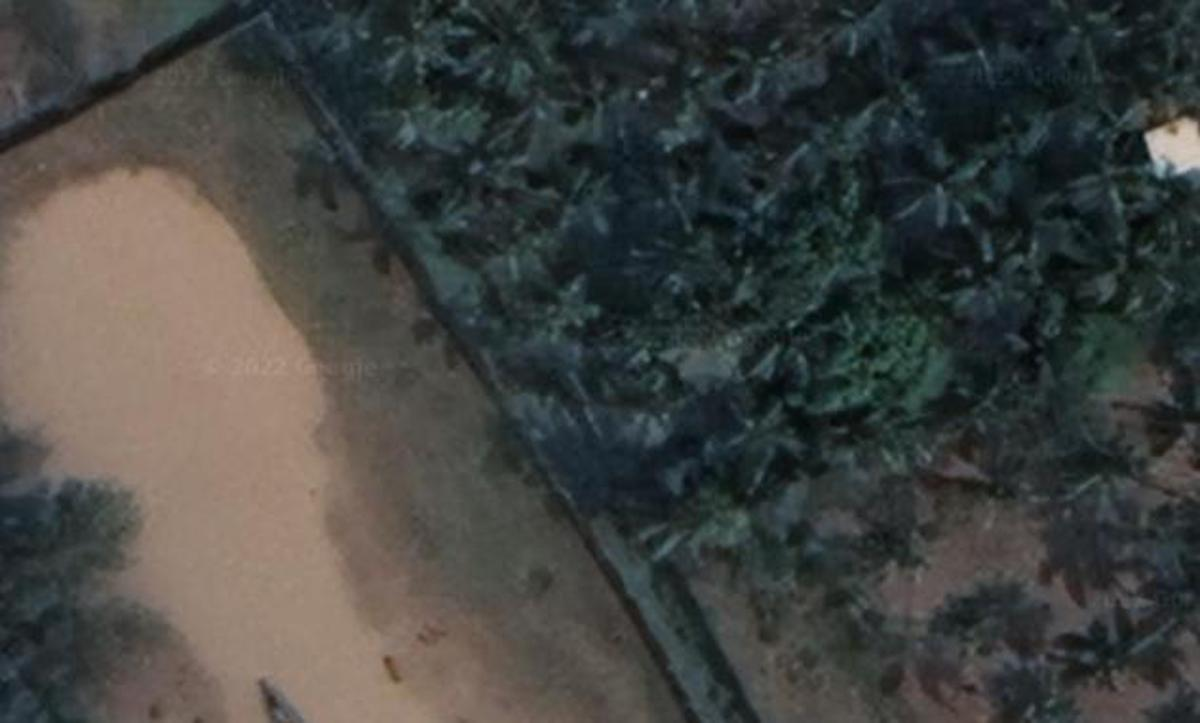coconut: (633, 464, 735, 578), (1045, 418, 1148, 523), (937, 226, 1038, 331), (895, 125, 985, 234), (737, 287, 846, 376), (701, 19, 796, 116), (462, 7, 553, 108), (1055, 146, 1156, 235), (1087, 218, 1186, 304), (1114, 488, 1200, 586), (958, 437, 1051, 527), (716, 395, 802, 492), (1066, 608, 1156, 698), (374, 0, 462, 89), (541, 146, 625, 232), (526, 256, 606, 342), (547, 58, 633, 138), (623, 156, 707, 234), (732, 144, 813, 224), (1045, 0, 1135, 72), (627, 232, 724, 298), (857, 511, 935, 591), (948, 587, 1028, 665), (945, 363, 1023, 443), (479, 195, 557, 275), (452, 123, 528, 205), (935, 13, 1021, 85), (857, 58, 937, 133), (815, 397, 886, 475), (823, 0, 899, 62), (1080, 93, 1152, 157)
